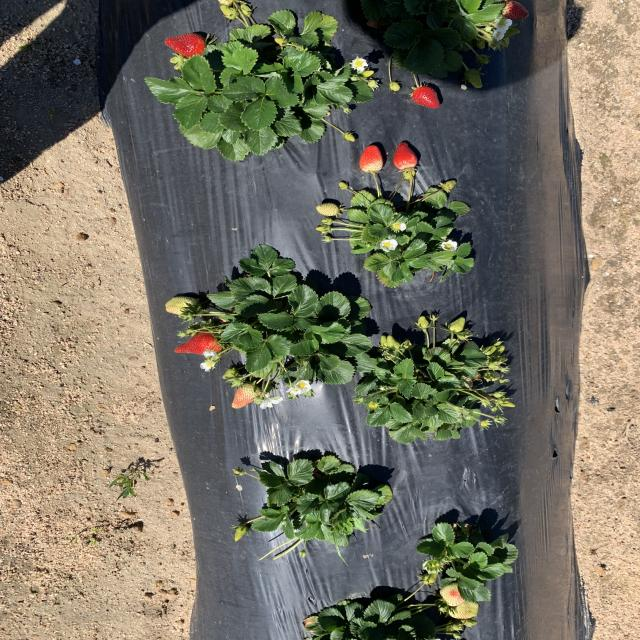unripe: (173, 330, 223, 358), (165, 32, 207, 58), (393, 139, 420, 171), (412, 86, 442, 109), (360, 144, 382, 174), (498, 1, 529, 19)
